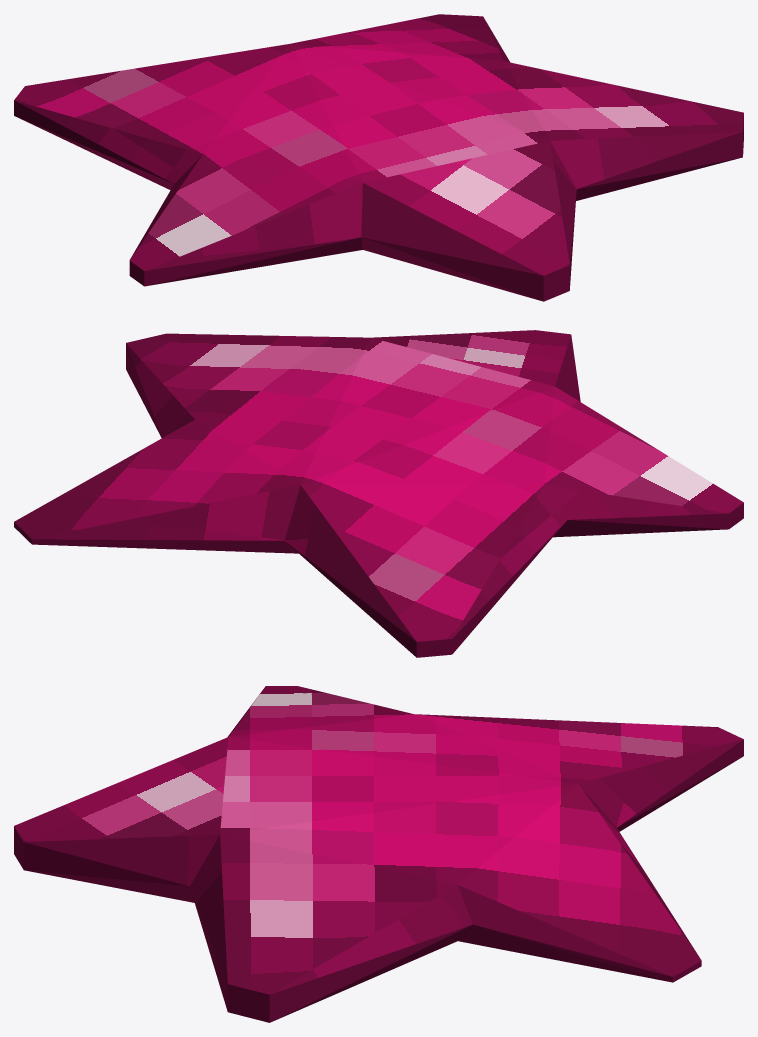
The model's file is SeaFish.fbx.
3 views of the same model, one above another, from view 1: azimuth 30°, elevation 25°; view 2: azimuth 150°, elevation 25°; view 3: azimuth 270°, elevation 25° (orthographic). The views are drawn at different scales.
Parts seen in each view (by area): view 1: SeaFish; view 2: SeaFish; view 3: SeaFish.
Boxes of the visible parts, bbox=[...] form: SeaFish: bbox=[14, 14, 743, 301]; SeaFish: bbox=[14, 330, 743, 657]; SeaFish: bbox=[14, 686, 743, 1022].
Size of the model in its own units: 38.1 by 4.06 by 36.73.
1 material, 1 textured.
